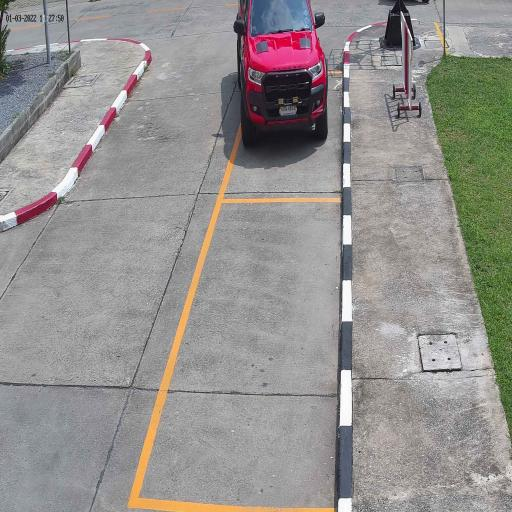car: (233, 0, 329, 149)
